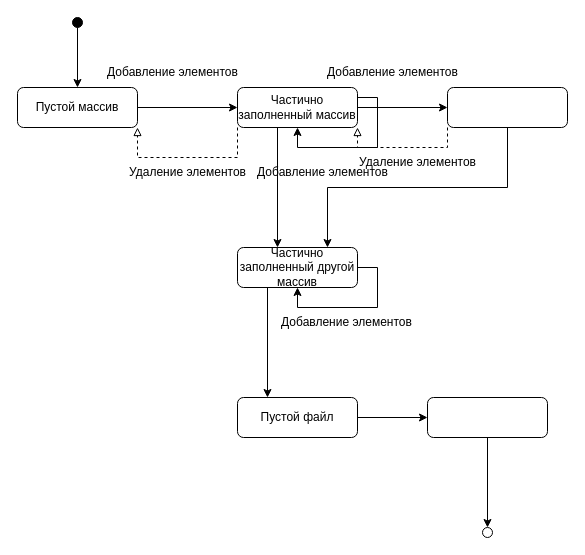
Some shapes in this 585 by 555 pixel diagram are drawn without their labels. The shapes that lost their labels are listed below. From the top down, each one's centre as x and y in pixels, then its label:
At pixel 507 107: "З аполненный массив".
At pixel 487 417: "Файл с данными".
